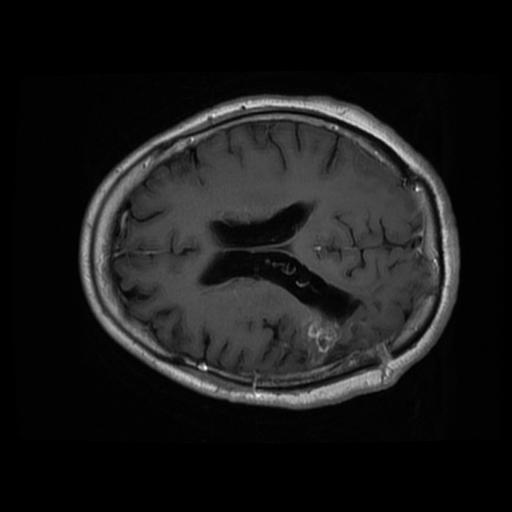glioma: (284, 262, 364, 357)
